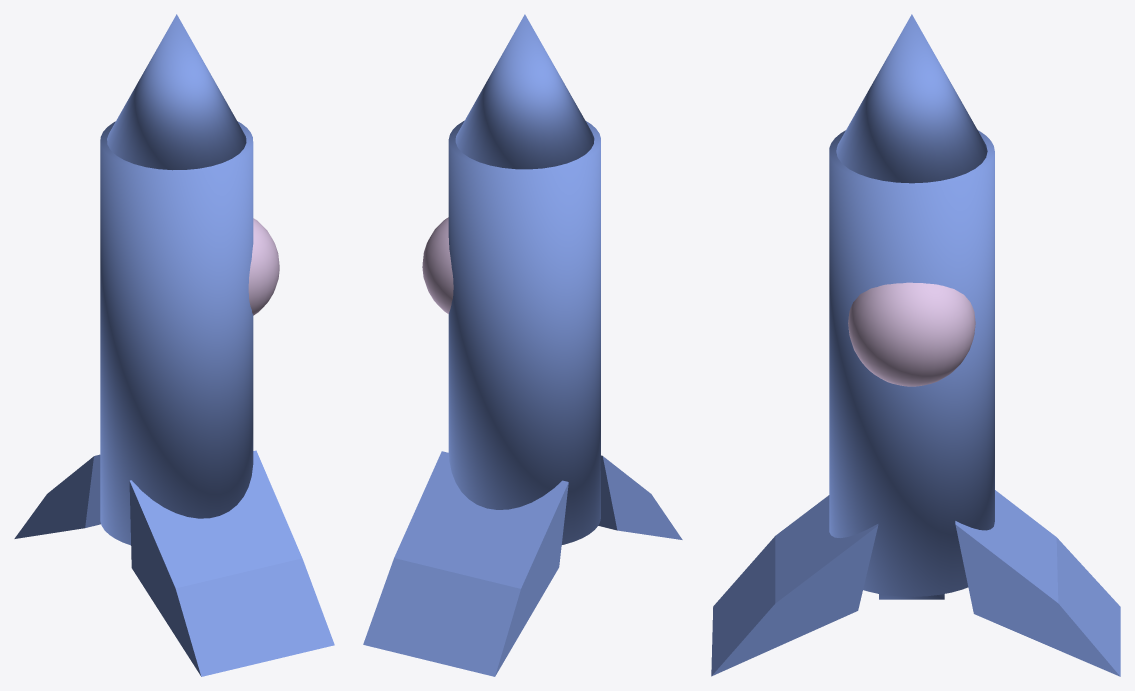
The picture shows the model from 3 angles, left to right: view 1: azimuth 30°, elevation 25°; view 2: azimuth 150°, elevation 25°; view 3: azimuth 270°, elevation 25°; orthographic projection. The views are drawn at different scales.
Visible parts, largest first — view 1: Cube.001, Sphere; view 2: Cube.001, Sphere; view 3: Cube.001, Sphere.
Boxes of the visible parts, x1,y1,x2,y2 form: Cube.001: [14, 14, 334, 676]; Sphere: [248, 218, 279, 315]; Cube.001: [363, 14, 682, 676]; Sphere: [422, 217, 453, 314]; Cube.001: [711, 14, 1120, 676]; Sphere: [848, 282, 975, 386].
Size of the model in its own units: 2.48 by 8.35 by 4.93.
